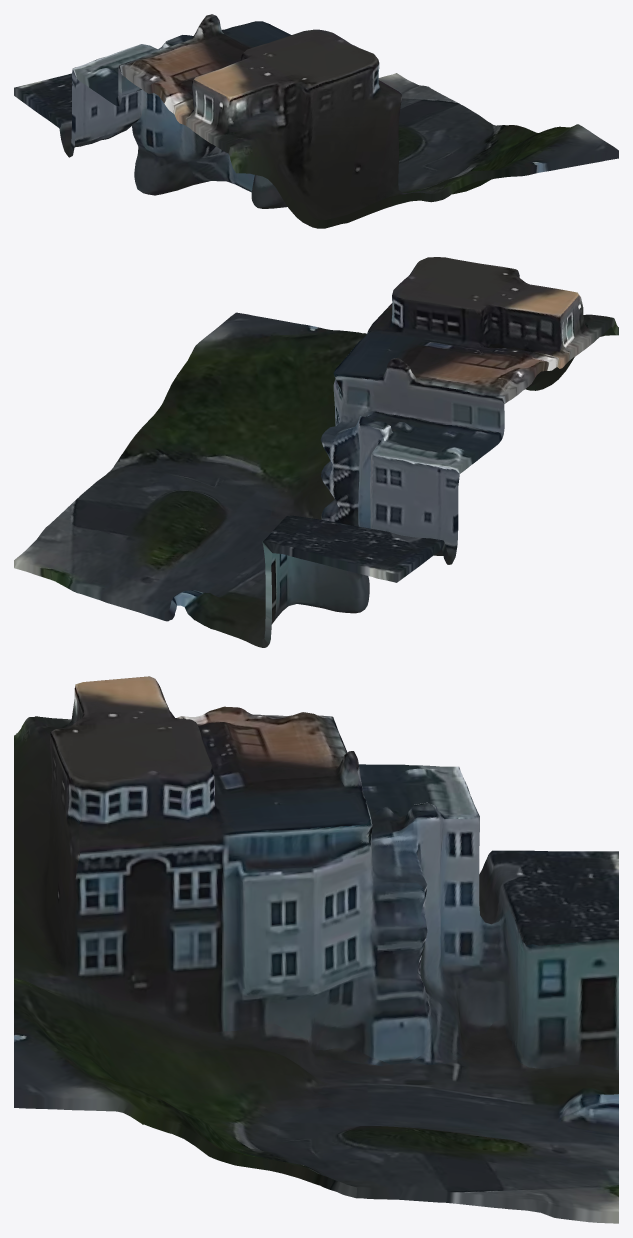
File: z20-167752-405194-h0-yup-uvflip-v3-world.glb
The picture shows the model from 3 angles, top to bottom: view 1: azimuth 30°, elevation 25°; view 2: azimuth 150°, elevation 25°; view 3: azimuth 270°, elevation 25°; orthographic projection. The views are drawn at different scales.
Size of the model in its own units: 30.16 by 18.08 by 30.32.
Materials: 1 (1 with a texture image).
